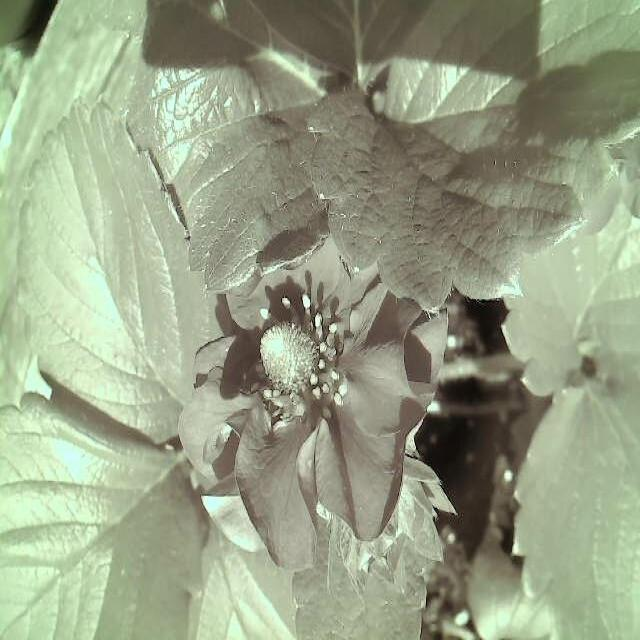flower: (179, 220, 451, 578)
